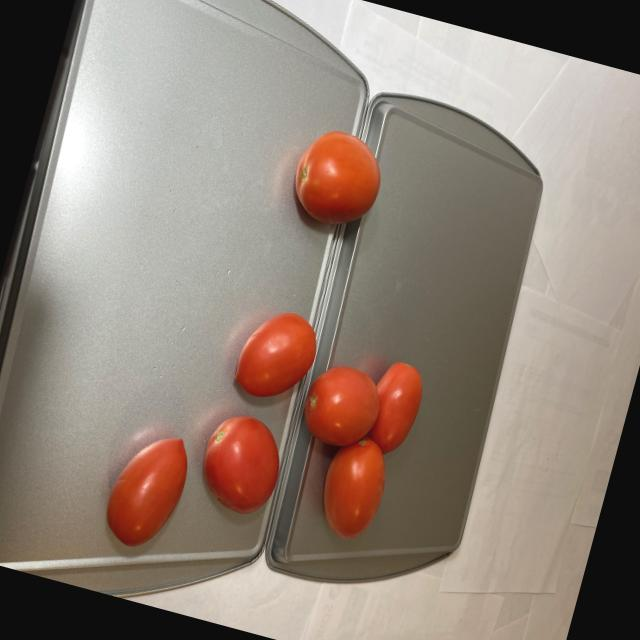tomato: (84, 284, 433, 616), (280, 120, 394, 240)
